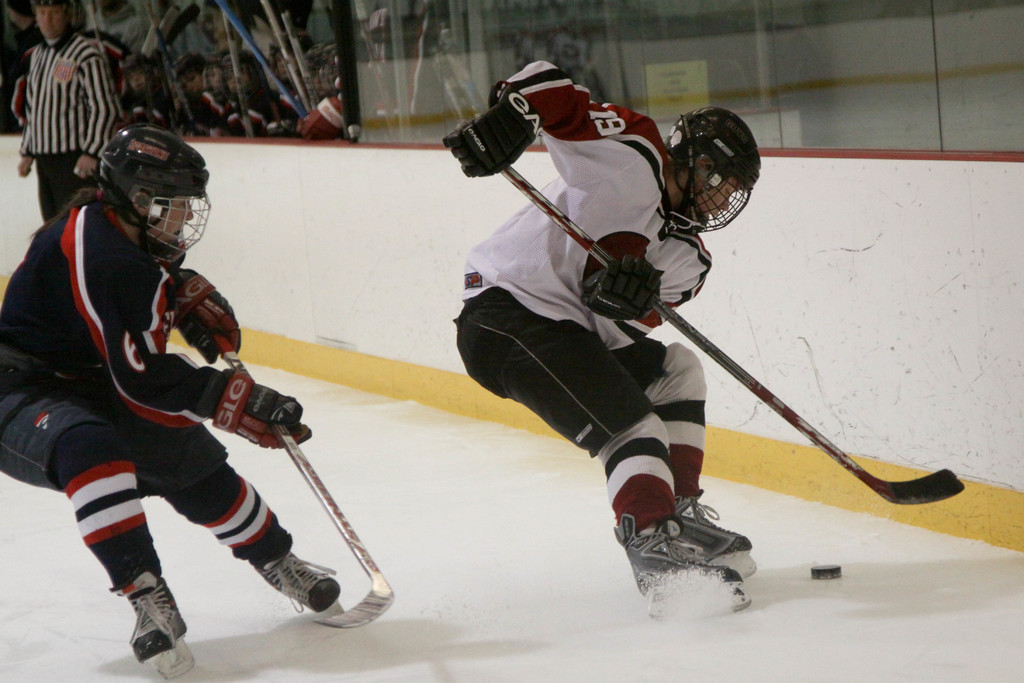Person: (0, 124, 342, 682), (442, 59, 763, 621), (0, 1, 341, 138), (17, 0, 116, 222)
